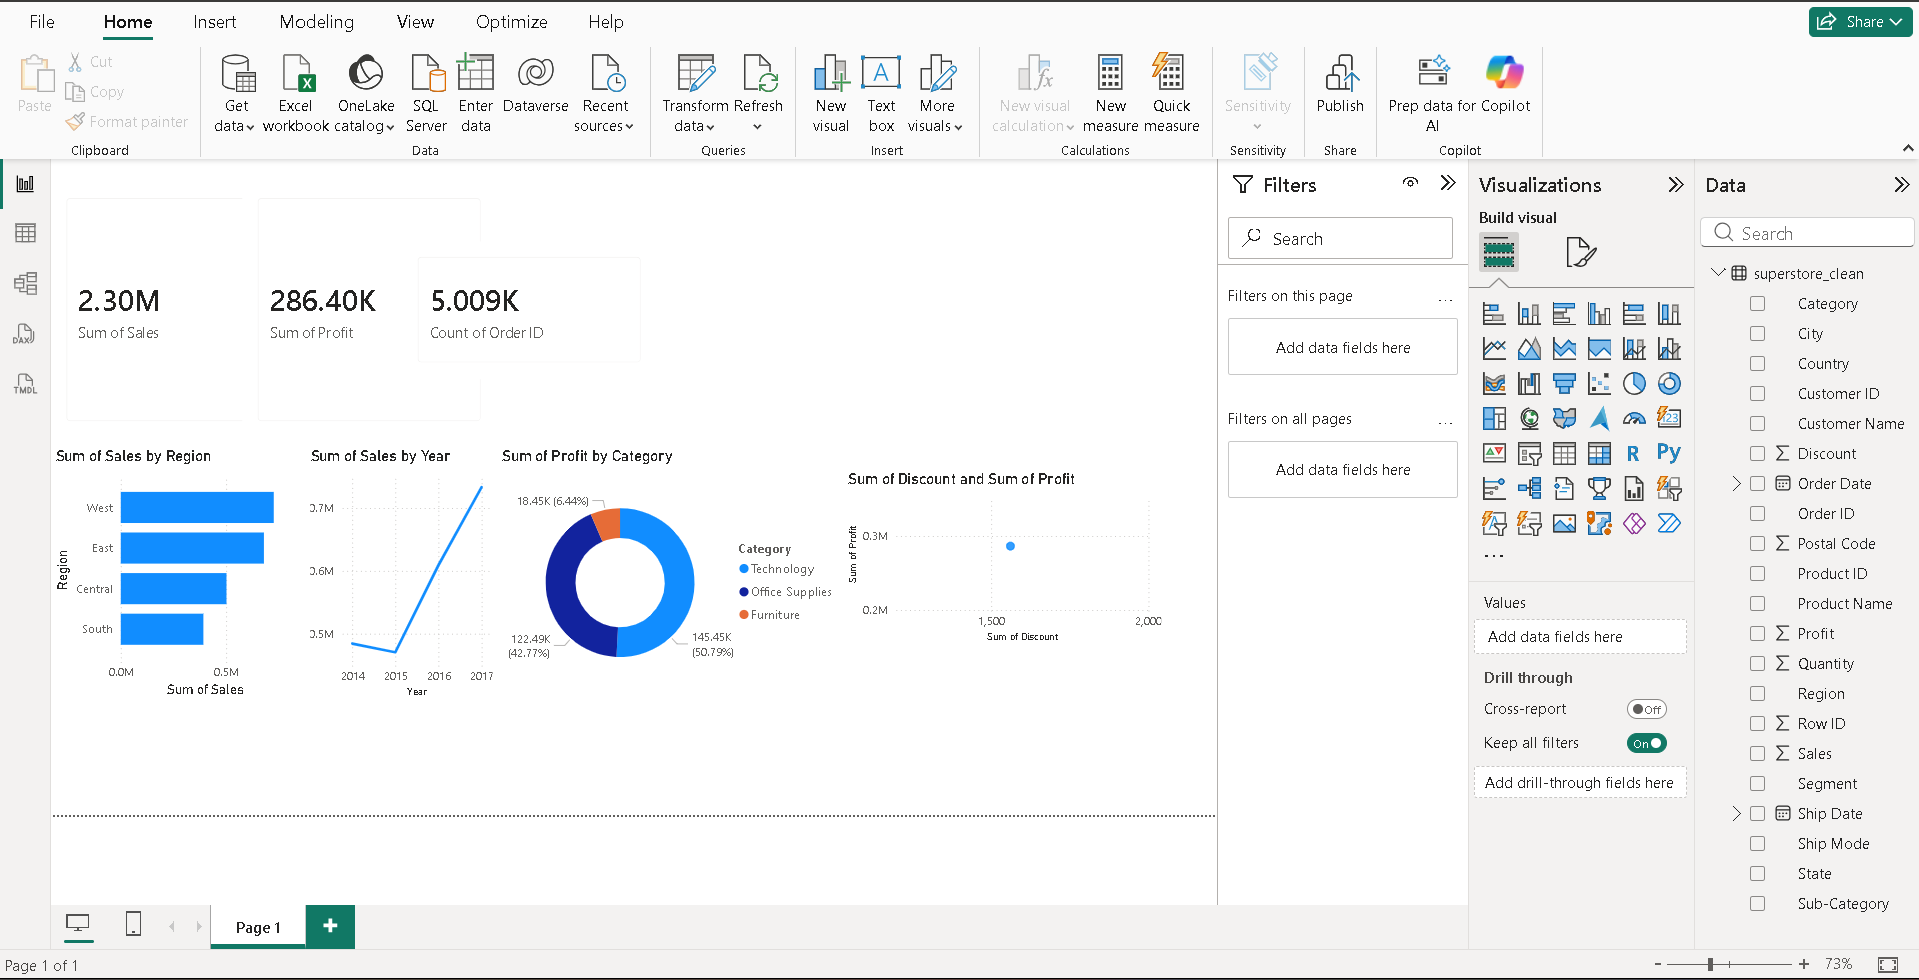

The dashboard page shown, as its layout file describes it:
{"tool":"powerbi","page":{"name":"Page 1","canvas":[1280,720],"ordinal":0},"visuals":[{"type":"cardVisual","fields":{"Data":["Sum(superstore_clean.Sales)"]},"box":[0,26.1,279.9,279.9],"z":0},{"type":"cardVisual","fields":{"Data":["Sum(superstore_clean.Profit)"]},"box":[209.9,26.1,279.9,279.9],"z":1},{"type":"cardVisual","fields":{"Data":["Count(superstore_clean.Order ID)"]},"box":[385.6,90.6,279.9,150.9],"z":2},{"type":"clusteredBarChart","fields":{"Category":["superstore_clean.Region"],"Y":["Sum(superstore_clean.Sales)"]},"box":[0,316,280,280],"z":3},{"type":"lineChart","fields":{"Category":["superstore_clean.Order Date.Variation.Date Hierarchy.Year","superstore_clean.Order Date.Variation.Date Hierarchy.Quarter","superstore_clean.Order Date.Variation.Date Hierarchy.Month","superstore_clean.Order Date.Variation.Date Hierarchy.Day"],"Y":["Sum(superstore_clean.Sales)"]},"box":[280,316,210,280],"z":4},{"type":"donutChart","fields":{"Y":["Sum(superstore_clean.Profit)"],"Category":["superstore_clean.Category"]},"box":[489.9,315.6,380.1,279.9],"z":5},{"type":"scatterChart","fields":{"X":["Sum(superstore_clean.Discount)"],"Y":["Sum(superstore_clean.Profit)"]},"box":[870,340.3,354,194.9],"z":6}]}

Visuals, with their boxes on the page's 1280x720 design canvas (x1, y1, x2, y2). These are canvas units, not pixel positions in the 1919x980 screenshot, which may show the page scaled, cropped or inside an application window:
cardVisual - Sum(superstore_clean.Sales): x1=0 y1=26 x2=280 y2=306
cardVisual - Sum(superstore_clean.Profit): x1=210 y1=26 x2=490 y2=306
cardVisual - Count(superstore_clean.Order ID): x1=386 y1=91 x2=666 y2=242
clusteredBarChart - superstore_clean.Region x Sum(superstore_clean.Sales): x1=0 y1=316 x2=280 y2=596
lineChart - superstore_clean.Order Date.Variation.Date Hierarchy.Year x superstore_clean.Order Date.Variation.Date Hierarchy.Quarter: x1=280 y1=316 x2=490 y2=596
donutChart - Sum(superstore_clean.Profit) x superstore_clean.Category: x1=490 y1=316 x2=870 y2=596
scatterChart - Sum(superstore_clean.Discount) x Sum(superstore_clean.Profit): x1=870 y1=340 x2=1224 y2=535
